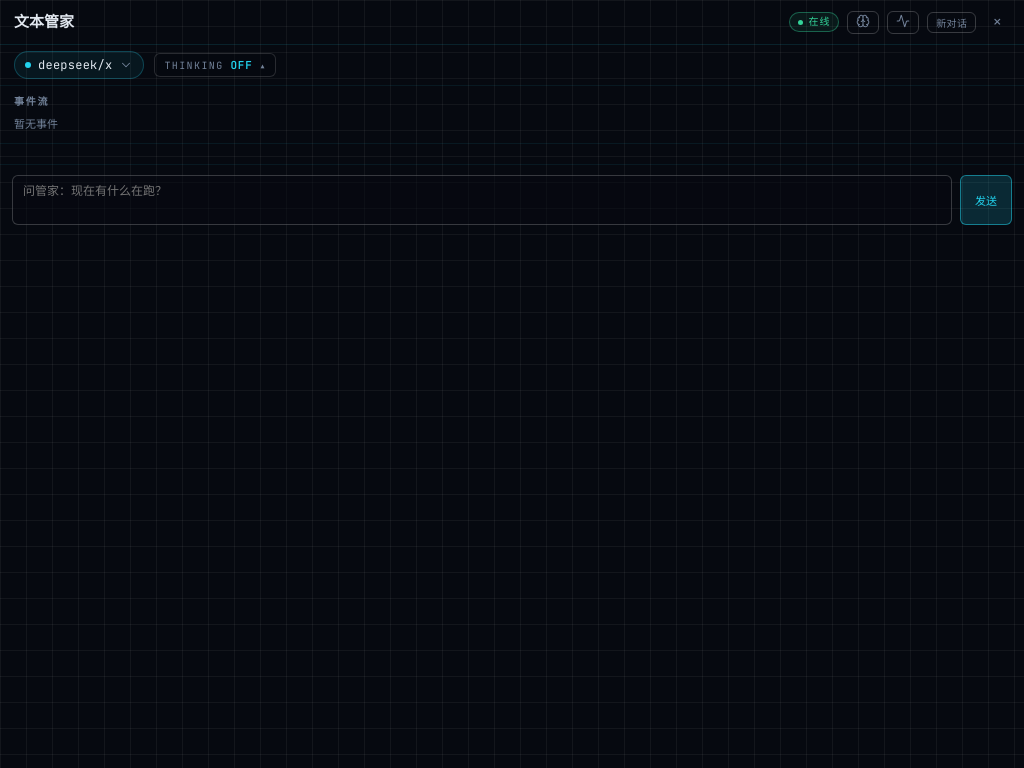
Test: StewardPanel（过程反馈——状态区与工具计时） › 在途时停止钮出现，点击 → sendStewardInterrupt；stopped 回执（dropped=2）→ 停止确认条目 + 在途态收口（输入面恢复）
The width and height of the screenshot is (1024, 768).
Type "在跑什么？" into the text box with test id "steward-input" at [482, 200], box [12,175,952,225]
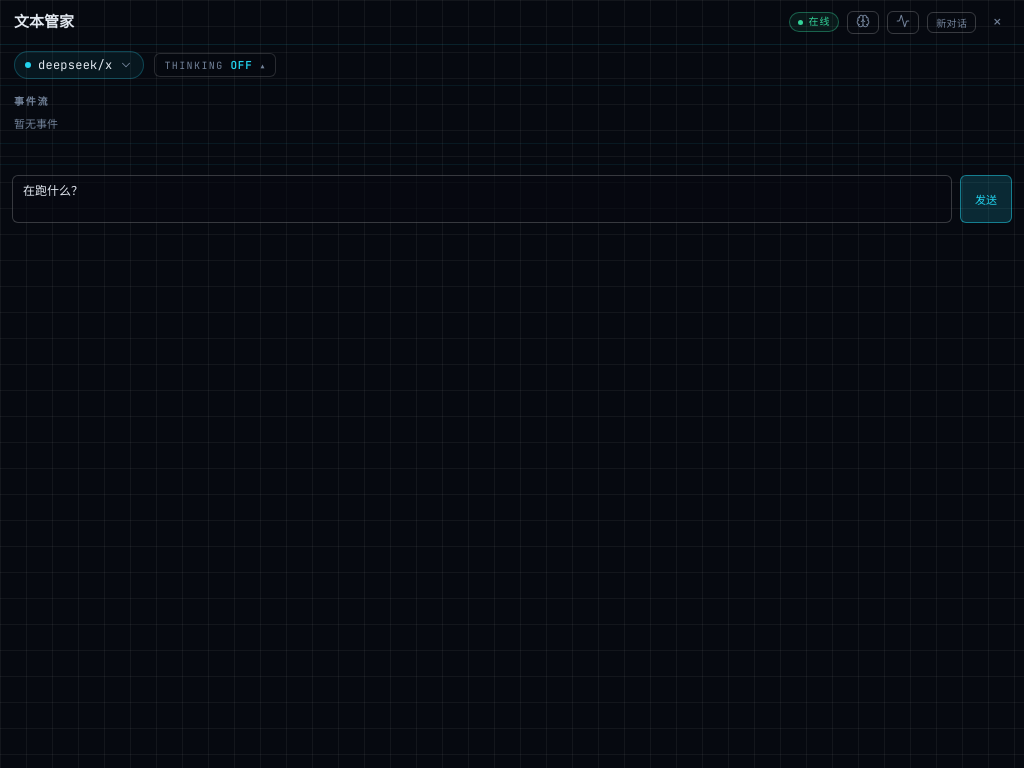
Click the button with test id "steward-send" at [986, 199], box [960,175,1012,223]
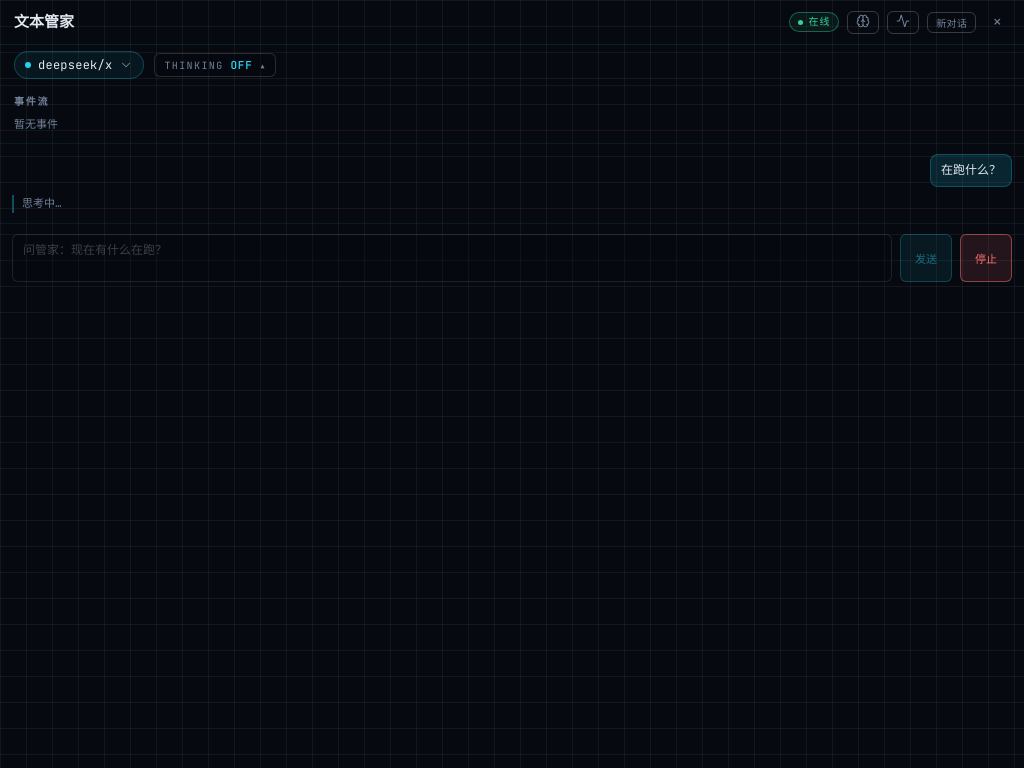
expect the element with test id "steward-inflight" is shown: met, box [12,195,62,213]
Click the button with test id "steward-stop" at [986, 258], box [960,234,1012,282]
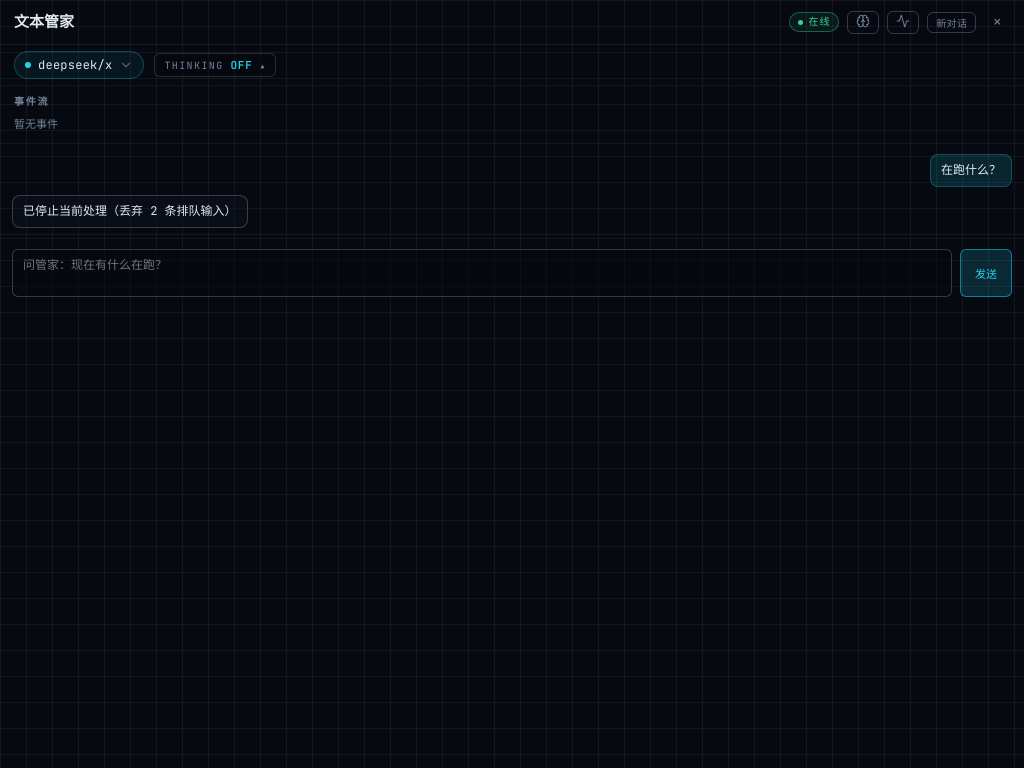
expect the element with test id "steward-inflight" is gone: met
expect the element with test id "steward-msg-steward" shows "丢弃 2 条排队输入": met, box [23,203,237,219]
expect the text box with test id "steward-input" is enabled: met, box [12,249,952,297]
